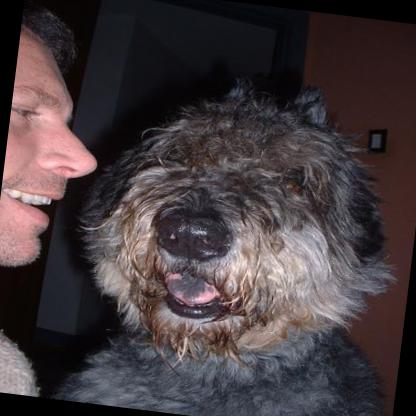Bouvier_des_Flandres: (48, 46, 416, 416)
